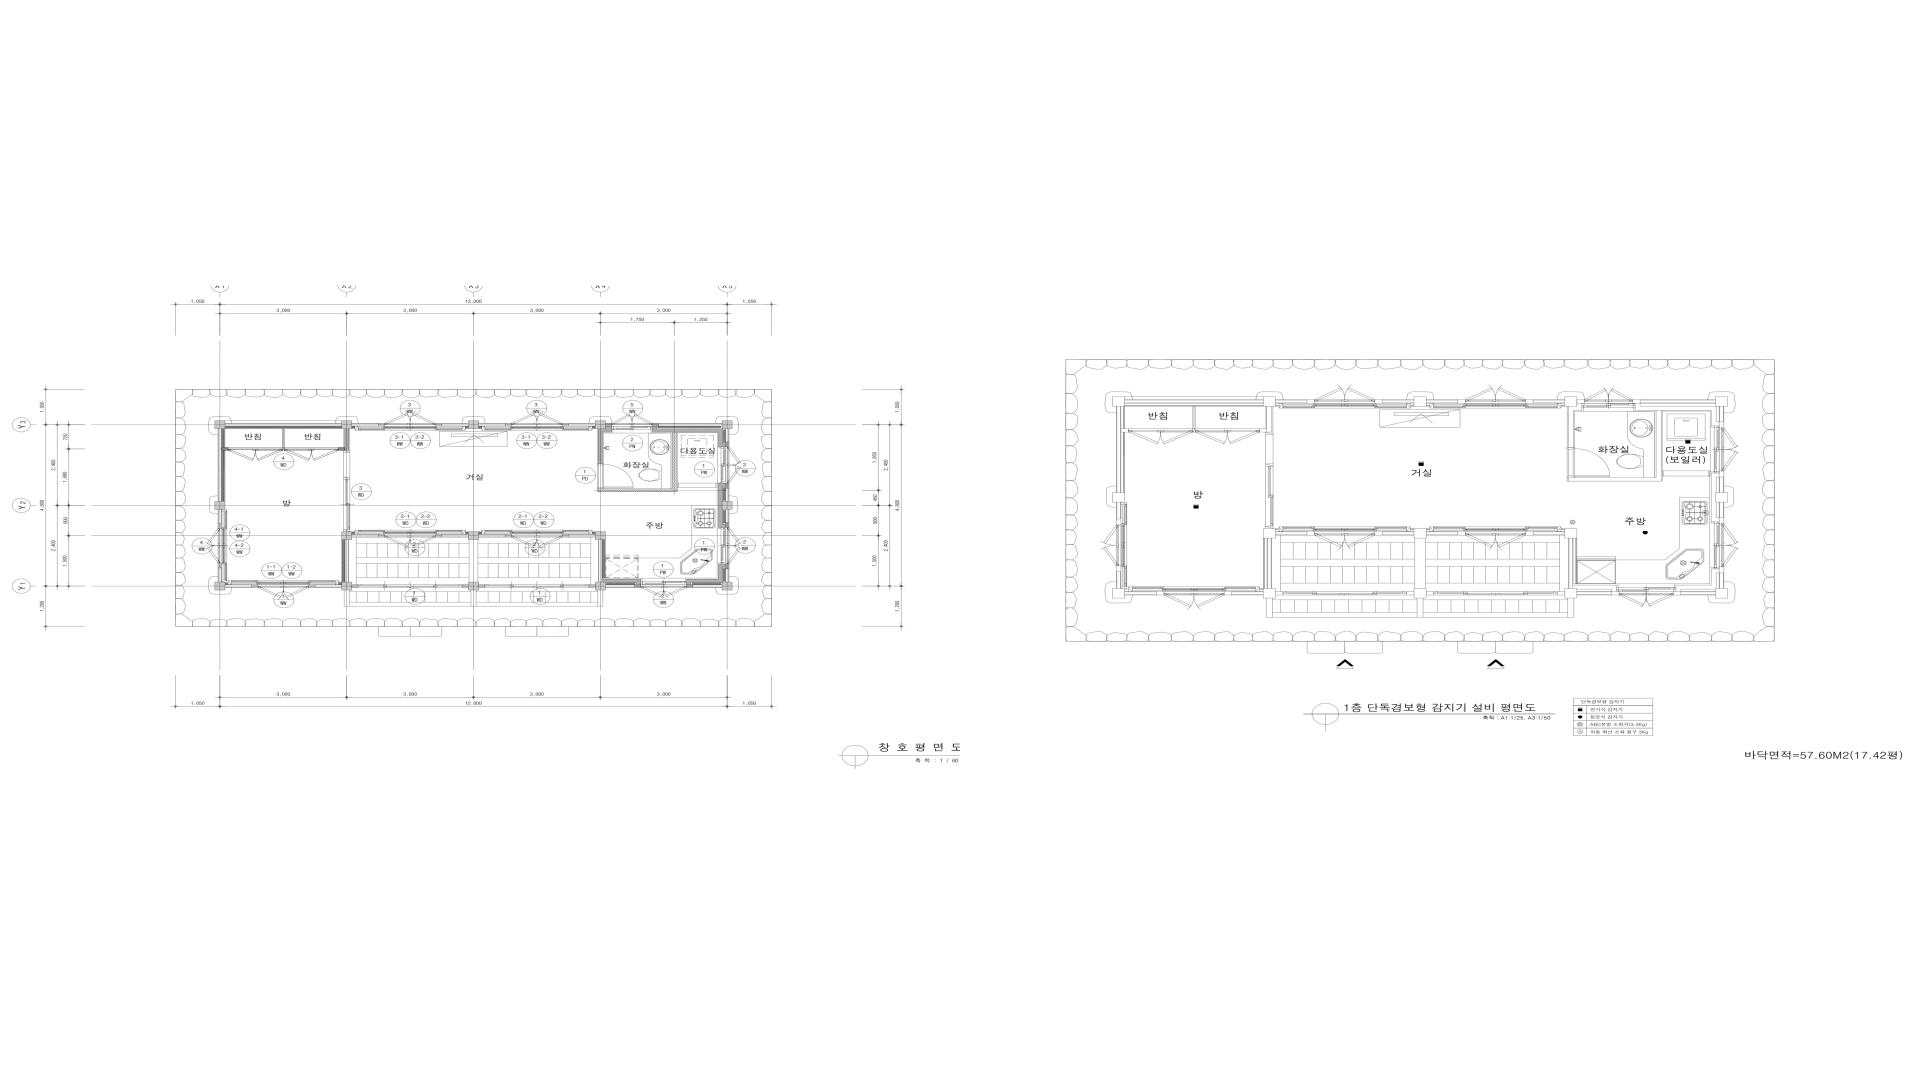door: (1568, 448, 1611, 478), (1195, 428, 1260, 445), (1128, 428, 1193, 445), (597, 464, 633, 489), (1265, 432, 1273, 529), (344, 477, 350, 532), (677, 483, 717, 488)
wall: (1568, 411, 1662, 481), (1633, 400, 1724, 428), (1673, 567, 1724, 595), (1568, 400, 1585, 448), (1711, 471, 1724, 524), (225, 421, 342, 426), (1573, 585, 1619, 595), (1116, 406, 1121, 493), (1125, 400, 1263, 403), (469, 540, 478, 582), (718, 483, 725, 528), (672, 432, 677, 492), (1568, 538, 1573, 589), (1267, 538, 1272, 589), (602, 579, 641, 585), (1640, 400, 1716, 403), (597, 489, 672, 492), (218, 429, 221, 501), (657, 429, 723, 432), (659, 423, 722, 426), (687, 579, 718, 585), (343, 451, 350, 477), (598, 432, 603, 464), (718, 564, 725, 583), (1263, 397, 1276, 407), (1112, 588, 1125, 598), (599, 540, 602, 582), (345, 540, 348, 582), (1267, 407, 1272, 432), (1565, 588, 1577, 598), (1112, 493, 1125, 502), (1263, 529, 1276, 538), (1715, 589, 1728, 598), (1113, 397, 1125, 406), (1414, 397, 1426, 406), (1565, 397, 1577, 406), (1716, 397, 1728, 406), (1716, 493, 1728, 502), (1565, 529, 1577, 538), (1414, 529, 1426, 538), (1414, 589, 1426, 598), (1263, 589, 1275, 598), (1681, 592, 1716, 595), (718, 432, 725, 447), (1577, 592, 1611, 595), (1426, 400, 1458, 403), (1533, 400, 1565, 403), (1533, 532, 1565, 535), (1426, 532, 1458, 535), (1275, 532, 1307, 535), (1125, 592, 1157, 595), (1276, 400, 1307, 403), (1383, 400, 1414, 403), (1383, 532, 1414, 535), (1232, 592, 1263, 595), (722, 501, 732, 510), (215, 501, 225, 510), (345, 429, 349, 451), (468, 421, 479, 429), (595, 421, 606, 429), (595, 582, 606, 590), (595, 532, 606, 540), (468, 582, 479, 590), (1116, 502, 1121, 519), (1116, 572, 1121, 589), (598, 426, 612, 432), (315, 585, 342, 588), (225, 585, 252, 588), (1719, 406, 1724, 422), (1719, 477, 1724, 493), (1719, 502, 1724, 518), (215, 421, 225, 429), (342, 421, 352, 429), (722, 421, 732, 429), (722, 582, 732, 590), (469, 532, 479, 540), (342, 532, 352, 540), (342, 582, 352, 590), (215, 582, 225, 590), (442, 423, 468, 426), (479, 423, 505, 426), (569, 423, 595, 426), (1719, 573, 1724, 588), (606, 585, 635, 587), (693, 585, 722, 587), (218, 568, 222, 582), (352, 424, 379, 426), (352, 535, 379, 537), (442, 535, 469, 537), (479, 535, 505, 537), (569, 535, 595, 537), (725, 429, 729, 442), (725, 488, 729, 501), (218, 510, 221, 524), (726, 510, 729, 523), (726, 569, 729, 582), (1116, 566, 1121, 572), (1116, 519, 1121, 525), (652, 426, 657, 432), (338, 447, 345, 451), (222, 447, 228, 451), (563, 534, 569, 538), (1307, 400, 1315, 403), (1375, 400, 1383, 403), (1375, 532, 1383, 535), (1307, 532, 1315, 535), (1557, 592, 1565, 595), (1426, 592, 1434, 595), (1406, 592, 1414, 595), (1224, 592, 1232, 595), (1156, 592, 1164, 595), (1275, 592, 1283, 595), (725, 483, 729, 489), (251, 585, 258, 588), (505, 534, 512, 537), (562, 423, 569, 426), (505, 423, 512, 426), (1458, 400, 1465, 403), (1526, 400, 1533, 403), (1526, 532, 1533, 535), (1458, 532, 1465, 535), (652, 423, 659, 426), (218, 563, 222, 568), (725, 442, 729, 447), (725, 523, 729, 528), (725, 564, 729, 569), (635, 585, 641, 588), (589, 585, 595, 588), (479, 585, 485, 588), (462, 585, 468, 588), (352, 585, 358, 588), (309, 585, 315, 588), (379, 534, 385, 537), (436, 534, 442, 537), (606, 423, 612, 426), (436, 423, 442, 426), (687, 585, 693, 588), (218, 524, 221, 529)
window: (1465, 387, 1526, 402), (1465, 533, 1526, 548), (1314, 388, 1375, 402), (1314, 533, 1375, 547), (1164, 593, 1224, 607), (1128, 586, 1260, 592), (1279, 403, 1410, 409), (1721, 524, 1738, 567), (258, 585, 309, 599), (385, 534, 436, 548), (1619, 593, 1673, 606), (1722, 428, 1738, 471), (512, 534, 563, 547), (385, 413, 436, 426), (1429, 403, 1561, 408), (1103, 525, 1119, 566), (1430, 527, 1561, 532), (1279, 527, 1410, 532), (512, 413, 562, 426), (1585, 389, 1633, 402), (641, 585, 687, 597), (725, 528, 740, 564), (725, 447, 740, 483), (1121, 502, 1127, 589), (612, 414, 652, 426), (207, 529, 221, 563), (228, 581, 339, 585), (355, 426, 465, 430), (482, 426, 592, 430), (482, 530, 592, 534), (355, 530, 465, 534), (221, 510, 227, 582), (1434, 592, 1557, 595), (1283, 592, 1406, 595), (641, 578, 687, 585), (358, 585, 462, 588), (485, 585, 589, 588), (717, 528, 725, 564), (612, 426, 652, 433), (718, 447, 725, 483), (1617, 588, 1676, 592), (1714, 426, 1719, 473), (1714, 522, 1719, 569), (1582, 403, 1635, 407)
